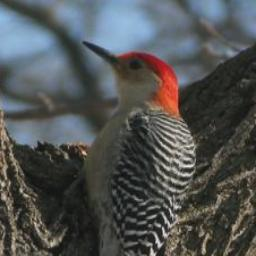Woodpecker: (59, 37, 202, 256)
